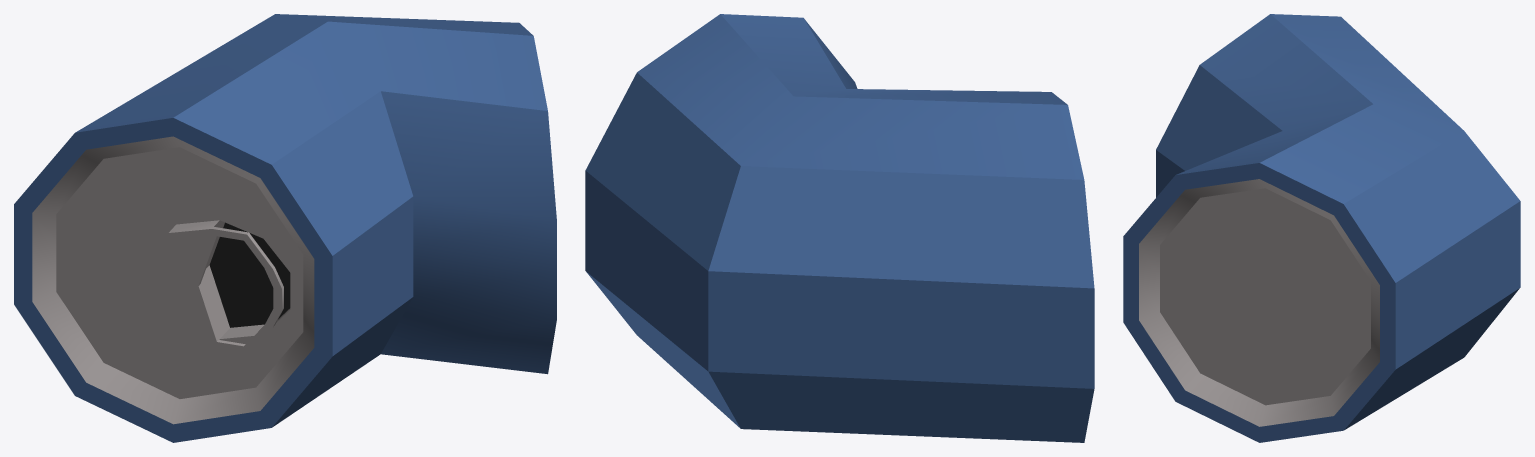
Rendered from Tin can (blue).fbx.
The picture shows the model from 3 angles, left to right: view 1: azimuth 30°, elevation 25°; view 2: azimuth 150°, elevation 25°; view 3: azimuth 270°, elevation 25°; orthographic projection. The views are drawn at different scales.
Visible parts, largest first — view 1: Tin can (blue); view 2: Tin can (blue); view 3: Tin can (blue).
Part boxes in pixels (x1,y1,x2,y2): Tin can (blue): [14, 14, 556, 442]; Tin can (blue): [585, 14, 1094, 442]; Tin can (blue): [1123, 14, 1520, 442].
Bounding box in the file's own units: 30.36 × 18.76 × 24.1.
